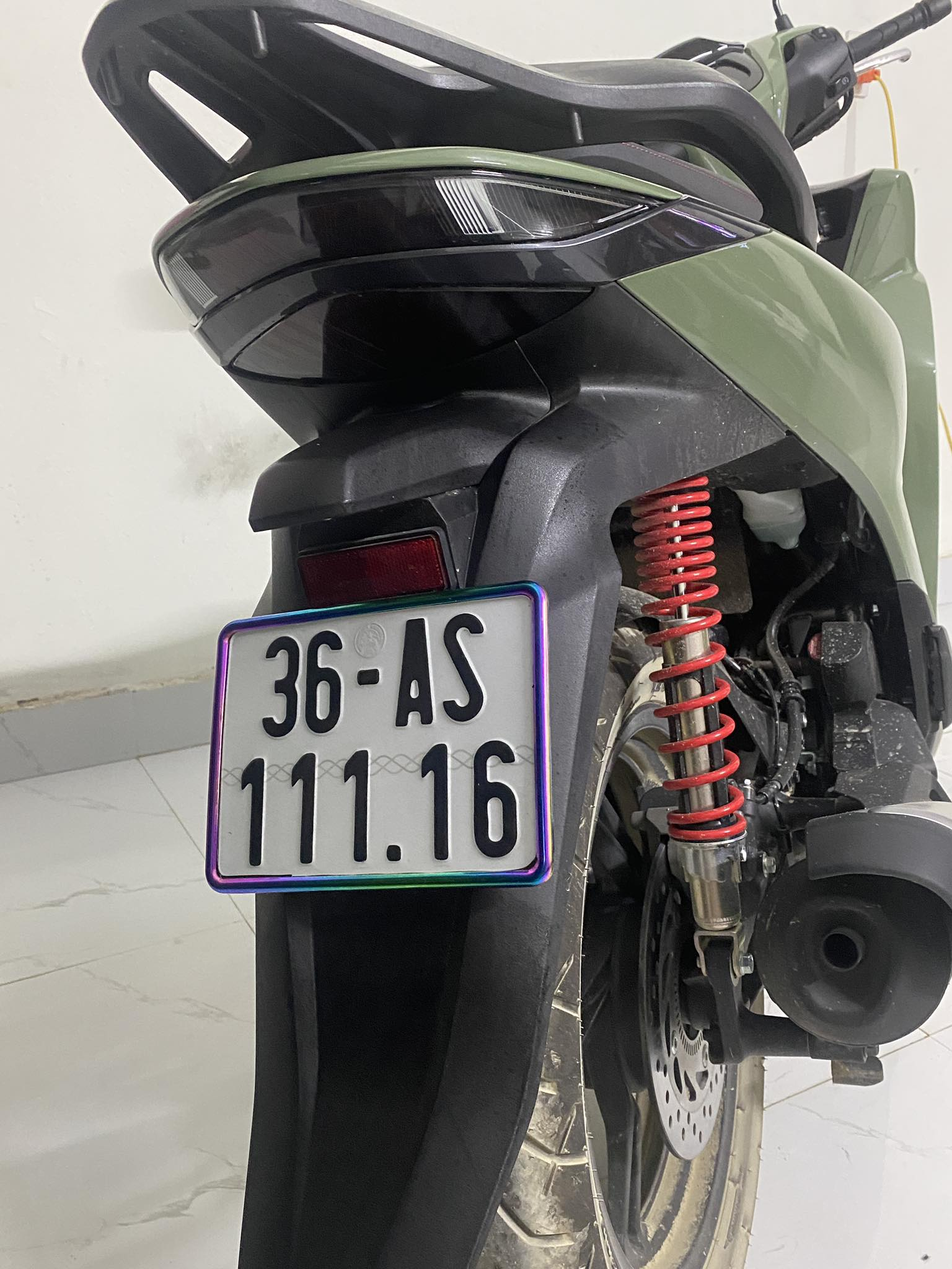bien_so: (195, 568, 577, 908)
